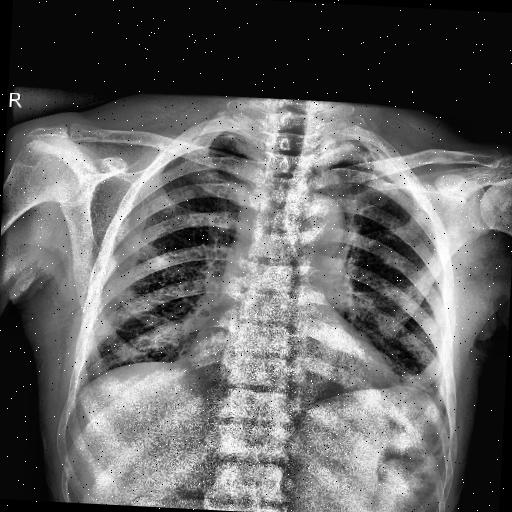0- Aortic enlargement: (282, 188, 346, 252), (290, 192, 349, 256), (286, 192, 346, 252)
13- Pulmonary fibrosis: (395, 372, 435, 393)
3- Cardiomegaly: (176, 340, 402, 402), (186, 329, 395, 396)
5- ILD: (88, 182, 221, 364), (348, 200, 454, 384)
